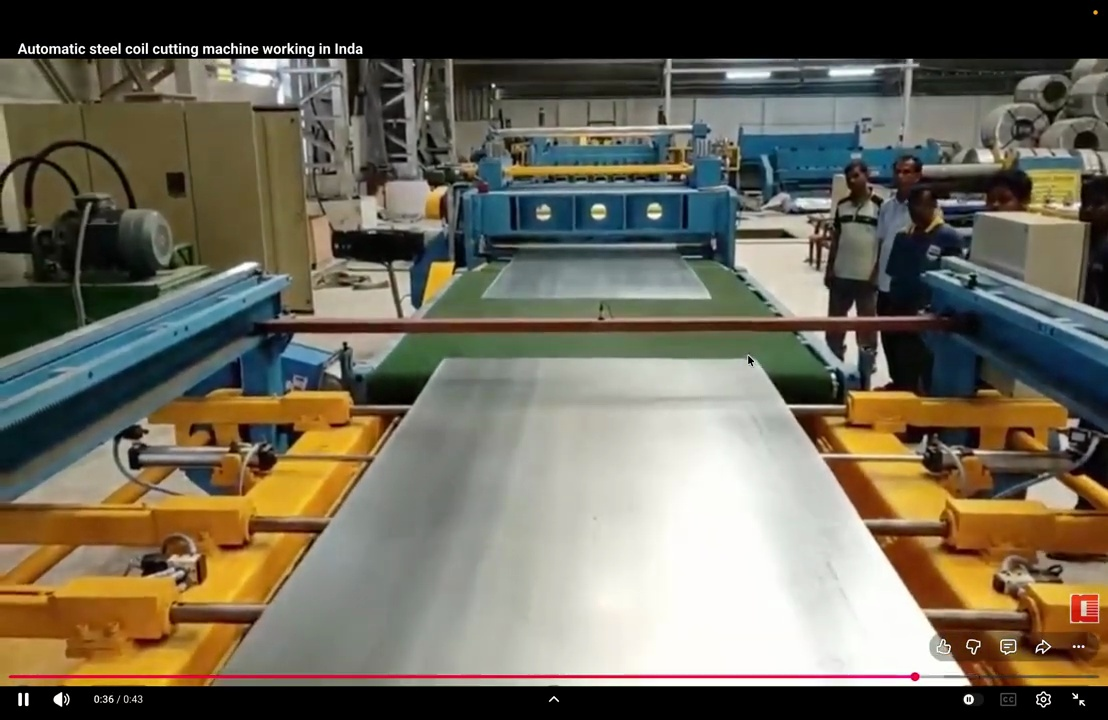steel plate: (222, 360, 964, 683), (482, 246, 709, 300)
